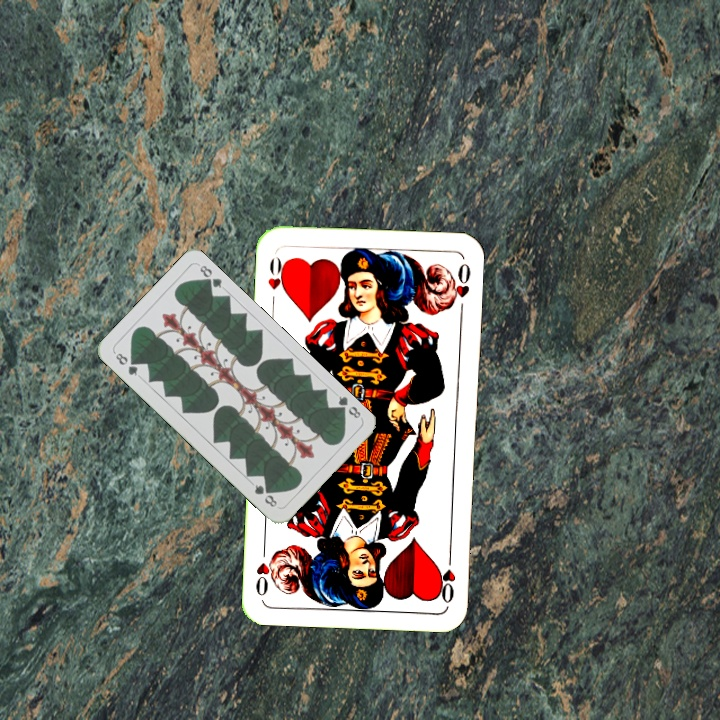G8: (332, 392, 363, 421), (111, 349, 140, 379)
HO: (263, 253, 289, 309), (435, 547, 459, 606)
